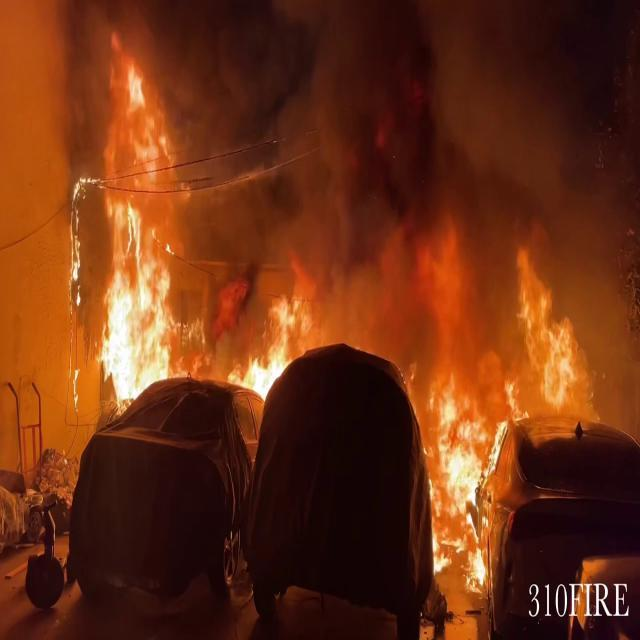Fire: (82, 69, 188, 412), (426, 369, 510, 592), (508, 244, 603, 434), (236, 282, 312, 408)
Smoke: (158, 1, 636, 327), (0, 0, 100, 452)
